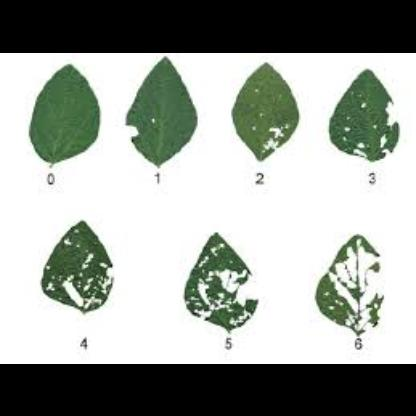agujero: (262, 116, 292, 160), (233, 266, 263, 306), (62, 274, 88, 314), (214, 265, 246, 292), (386, 94, 402, 130), (96, 262, 113, 294), (352, 138, 370, 158), (82, 247, 94, 271), (378, 131, 390, 150), (382, 144, 392, 160), (60, 232, 70, 248), (74, 221, 82, 237), (362, 98, 370, 108)
